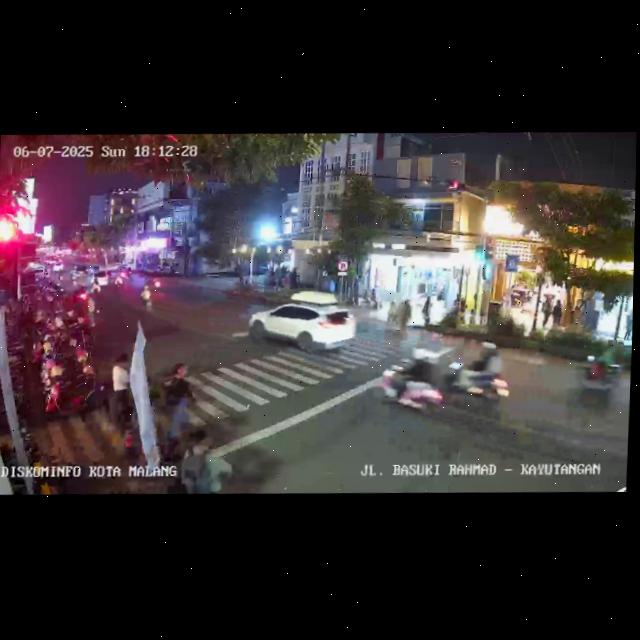car: (248, 288, 358, 354)
motorcycle: (435, 337, 514, 411), (375, 345, 449, 420), (575, 348, 624, 407), (139, 279, 155, 312), (112, 270, 124, 290)
person: (176, 422, 230, 492), (153, 361, 194, 436), (104, 351, 138, 438), (83, 295, 101, 333), (397, 298, 412, 335), (550, 297, 563, 327), (384, 297, 396, 329), (540, 297, 551, 331), (421, 296, 431, 327), (624, 311, 632, 339)
